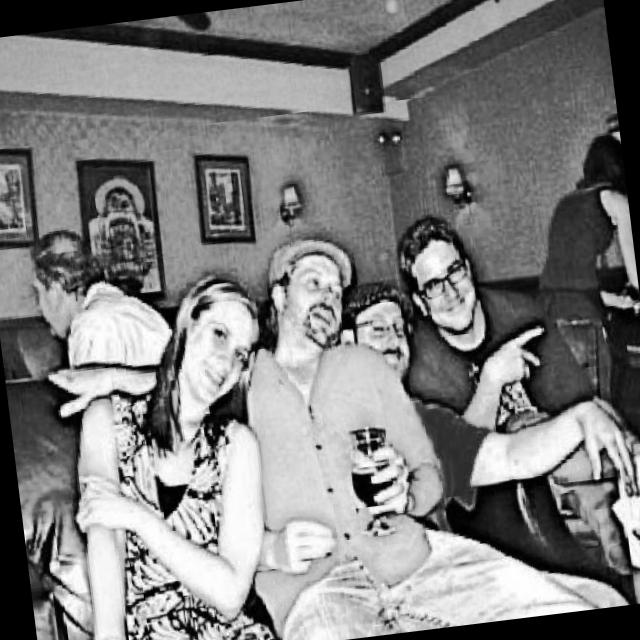Person: (215, 198, 623, 640), (27, 265, 303, 640), (332, 244, 640, 534), (386, 200, 596, 438), (528, 122, 640, 397), (21, 215, 180, 380)
